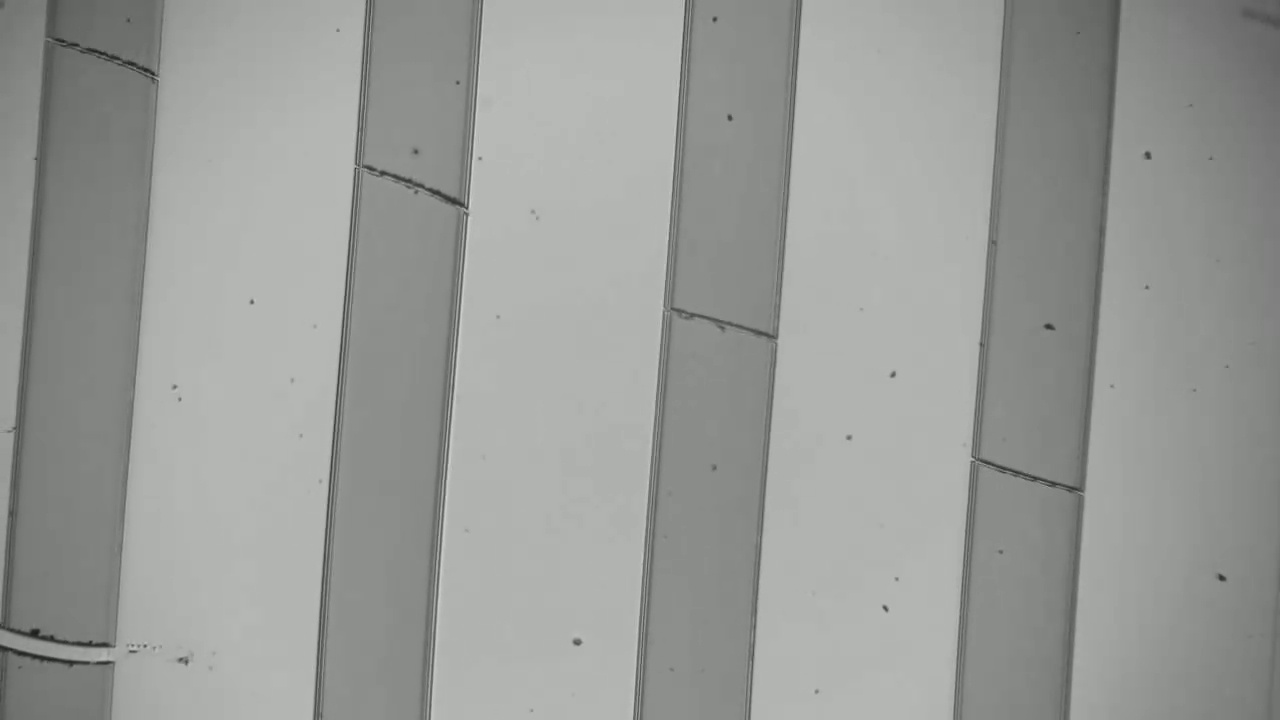Short_circuit: (0, 608, 144, 675)
scratch: (980, 448, 1075, 498), (374, 159, 458, 212), (683, 296, 770, 345), (61, 32, 148, 81)
